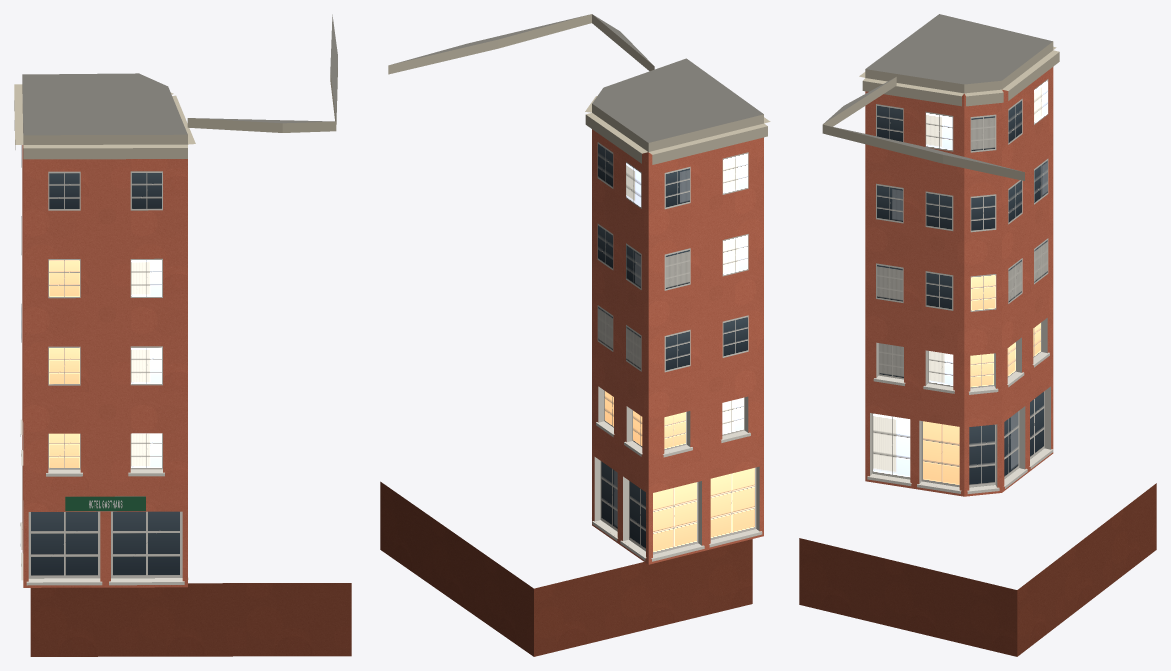
File: langA_hotel210.glb
The picture shows the model from 3 angles, left to right: view 1: azimuth 30°, elevation 25°; view 2: azimuth 150°, elevation 25°; view 3: azimuth 270°, elevation 25°; orthographic projection. The views are drawn at different scales.
Parts seen in each view (by area): view 1: langA_hotel210; view 2: langA_hotel210; view 3: langA_hotel210.
Part boxes in pixels (<box>): langA_hotel210: <box>14,14,351,656</box>; langA_hotel210: <box>380,14,770,656</box>; langA_hotel210: <box>799,14,1156,656</box>.
Bounding box in the file's own units: 16.05 × 21.51 × 14.55.
3 materials, 3 textured.
